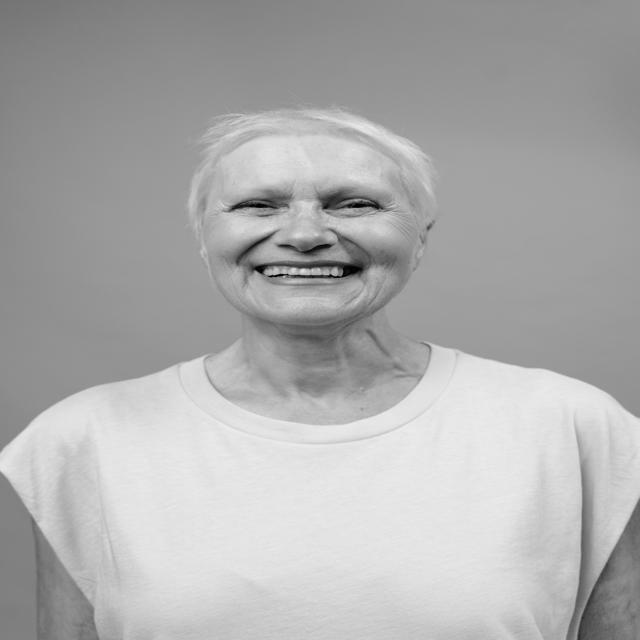Happiness: (204, 134, 416, 330)
